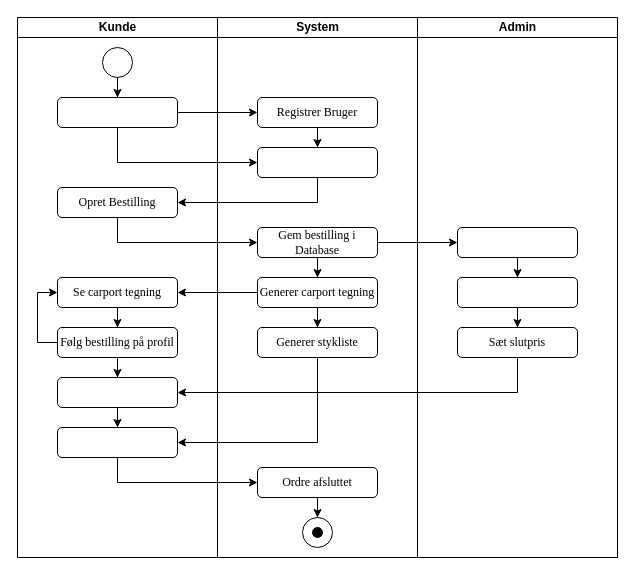
Image size: 635x575. Some labels were removed from this diagram. Each missing label, with the centre of its shape:
Besøg Hjemmeside: (x=117, y=112)
Betal: (x=117, y=392)
Login: (x=317, y=162)
Rediger ordre status: (x=517, y=292)
Se stykliste: (x=117, y=442)
Se/rediger alle bestillinger: (x=517, y=242)
